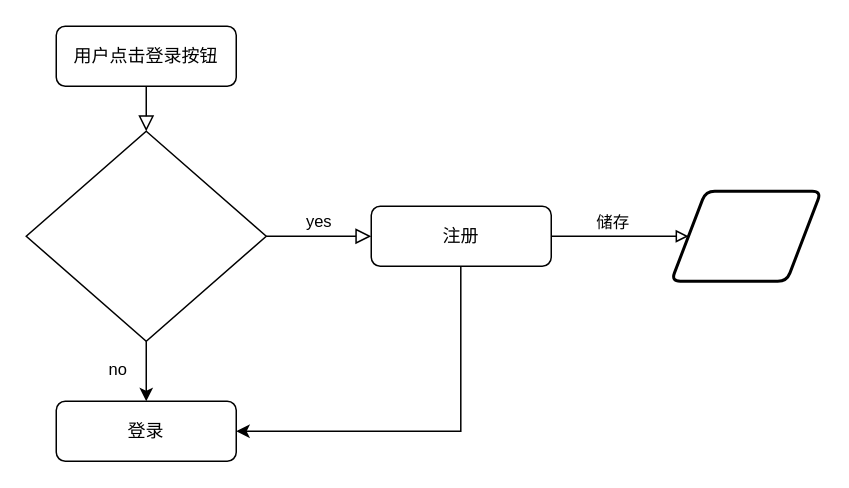
The diagram is 849 pixels wide and 488 high, and some of its shapes have lost their labels. The box of each missing label's shape, as (x1, y1, x2, y2) in pixels:
用户数据 （后端）: (669, 189, 822, 282)
用户是否第一次登录？: (25, 130, 266, 341)
